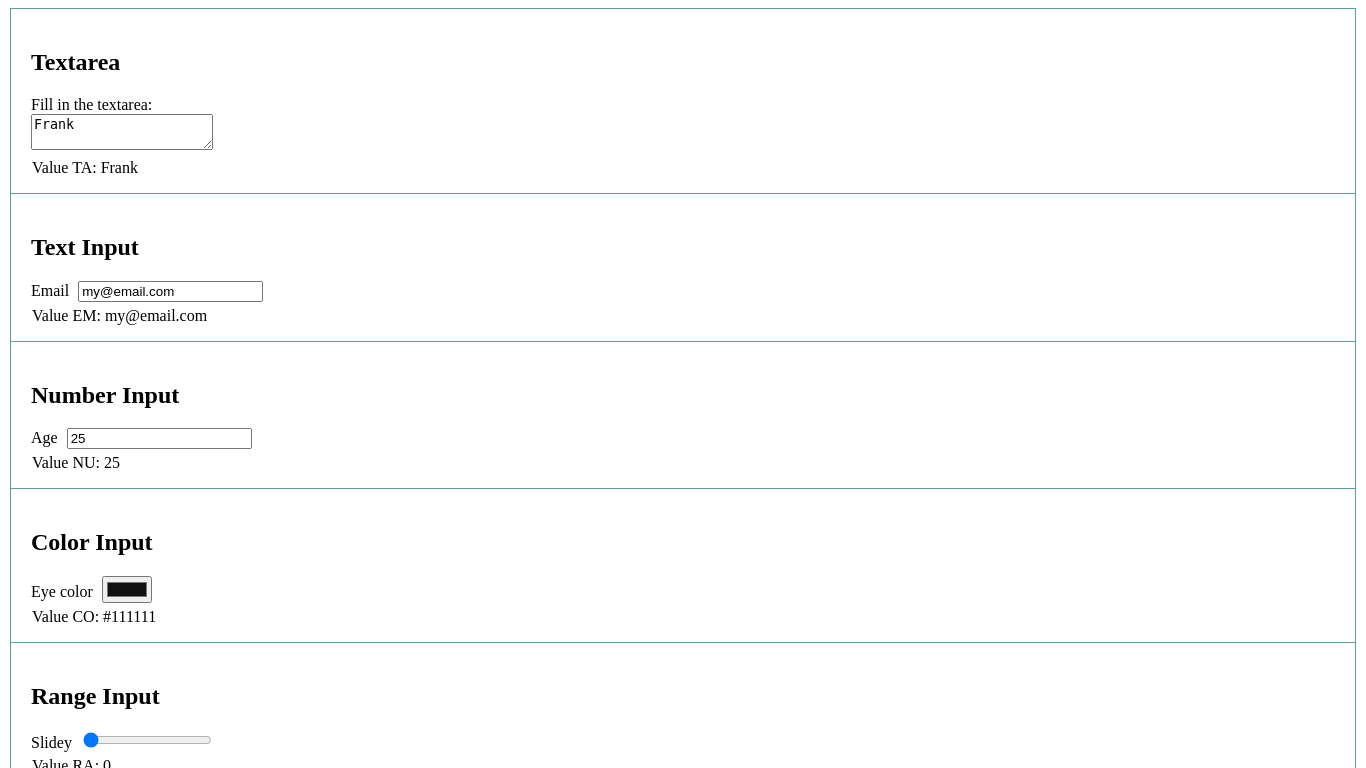
it: updating range inputs should work
Set the slider labelled "Slidey" to "50" at (147, 740), box [83, 732, 212, 748]
(page scrolled)
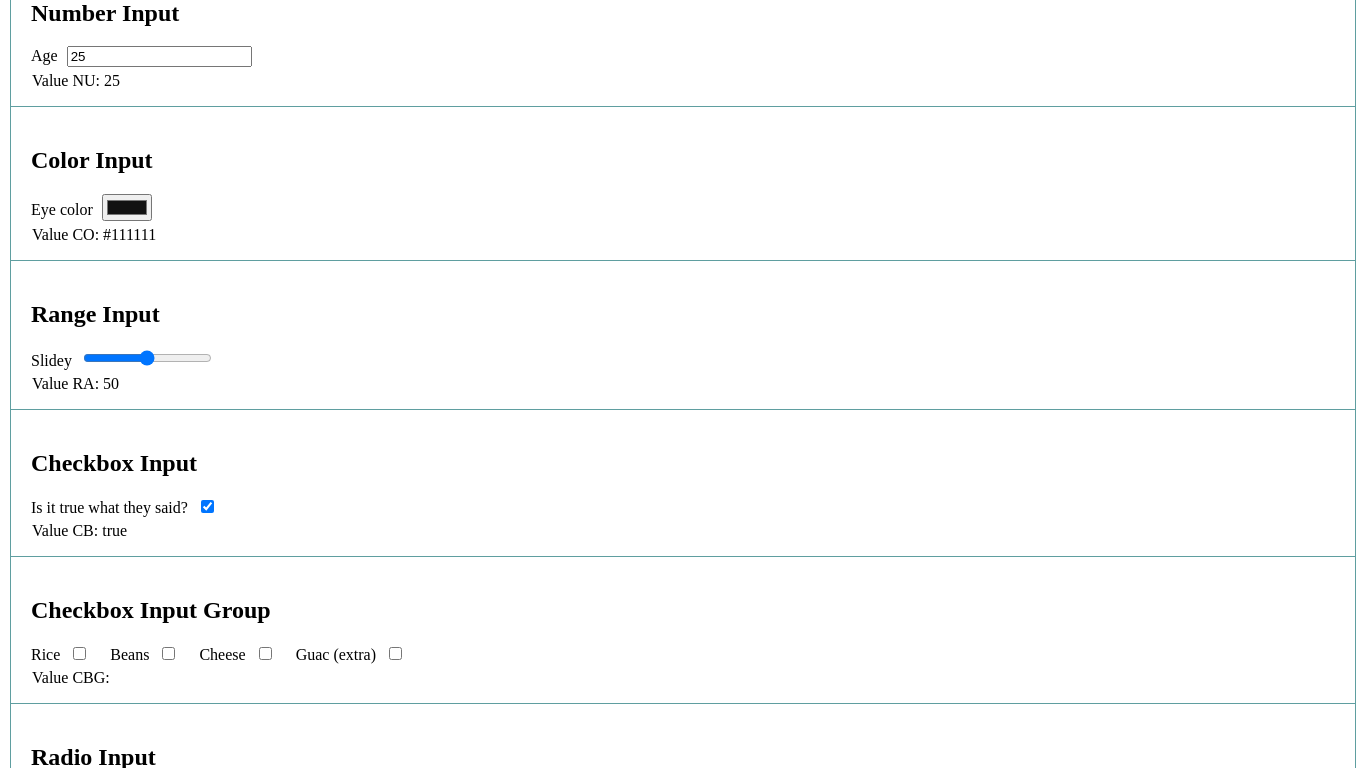
Expected: the text "Value RA: 50" is shown, [32, 375, 119, 392]
